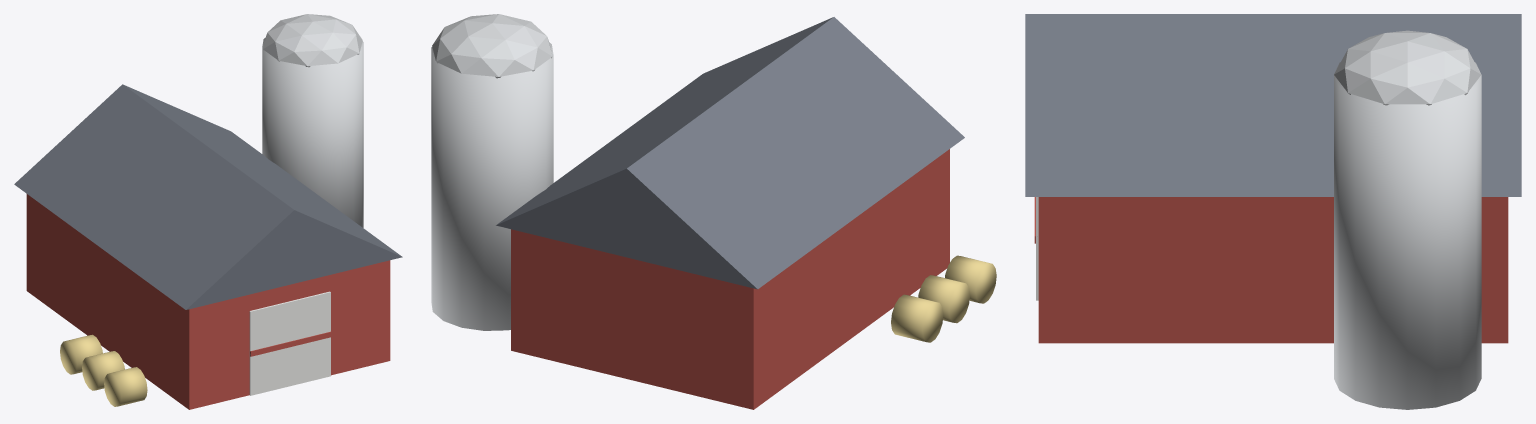
File: barn.glb
The picture shows the model from 3 angles, left to right: view 1: azimuth 30°, elevation 25°; view 2: azimuth 150°, elevation 25°; view 3: azimuth 270°, elevation 25°; orthographic projection. The views are drawn at different scales.
Visible parts, largest first — view 1: Barn; view 2: Barn; view 3: Barn.
Part boxes in pixels (<box>): Barn: <box>14,14,402,409</box>; Barn: <box>431,14,996,409</box>; Barn: <box>1025,14,1521,409</box>.
Size of the model in its own units: 17.35 by 11.1 by 14.8.
